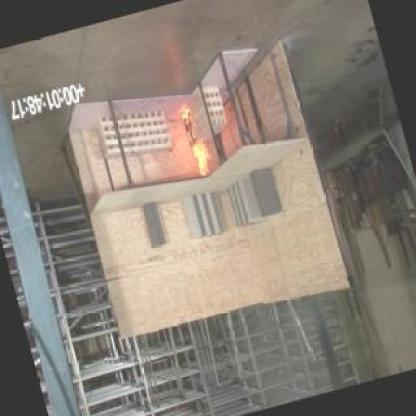Fire: (173, 101, 213, 177)
